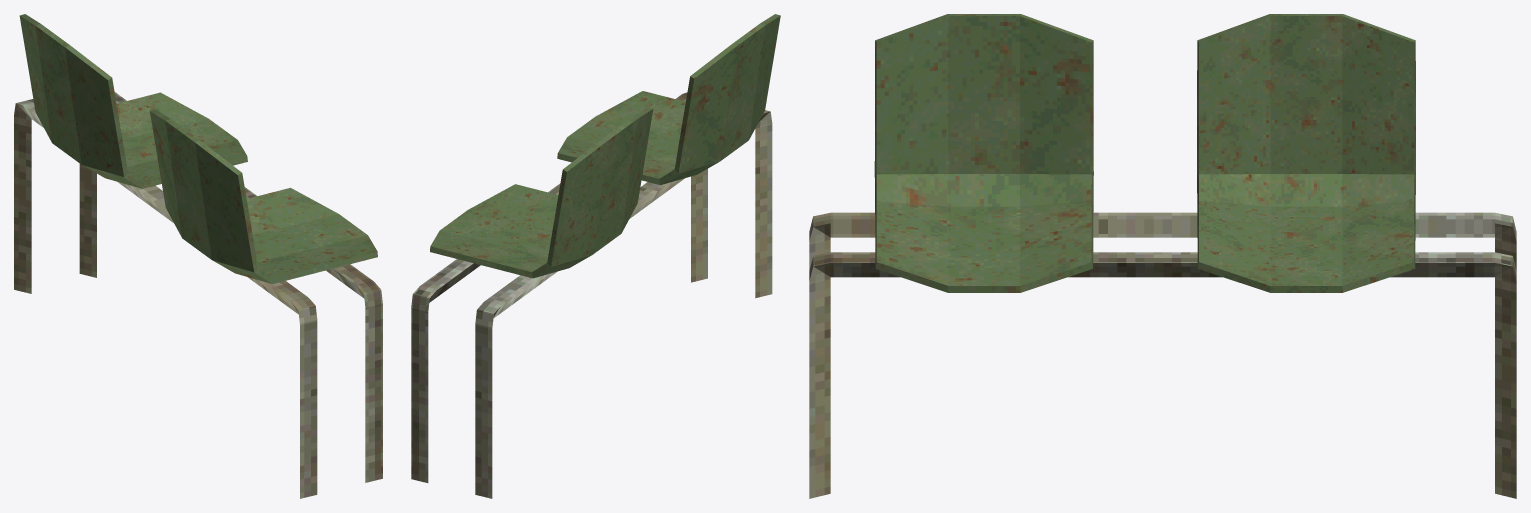
The model's file is busstop_two_seats_alt.glb.
3 renders of one model, left to right at view 1: azimuth 30°, elevation 25°; view 2: azimuth 150°, elevation 25°; view 3: azimuth 270°, elevation 25°, orthographic. The views are drawn at different scales.
Parts seen in each view (by area): view 1: busstop_two_seats_alt; view 2: busstop_two_seats_alt; view 3: busstop_two_seats_alt.
Part boxes in pixels (left/top/right/bottom): busstop_two_seats_alt: left=14, top=14, right=382, bottom=498; busstop_two_seats_alt: left=411, top=14, right=780, bottom=498; busstop_two_seats_alt: left=809, top=14, right=1516, bottom=498.
Size of the model in its own units: 0.692 by 1.25 by 1.98.
Materials: 1 (1 with a texture image).
